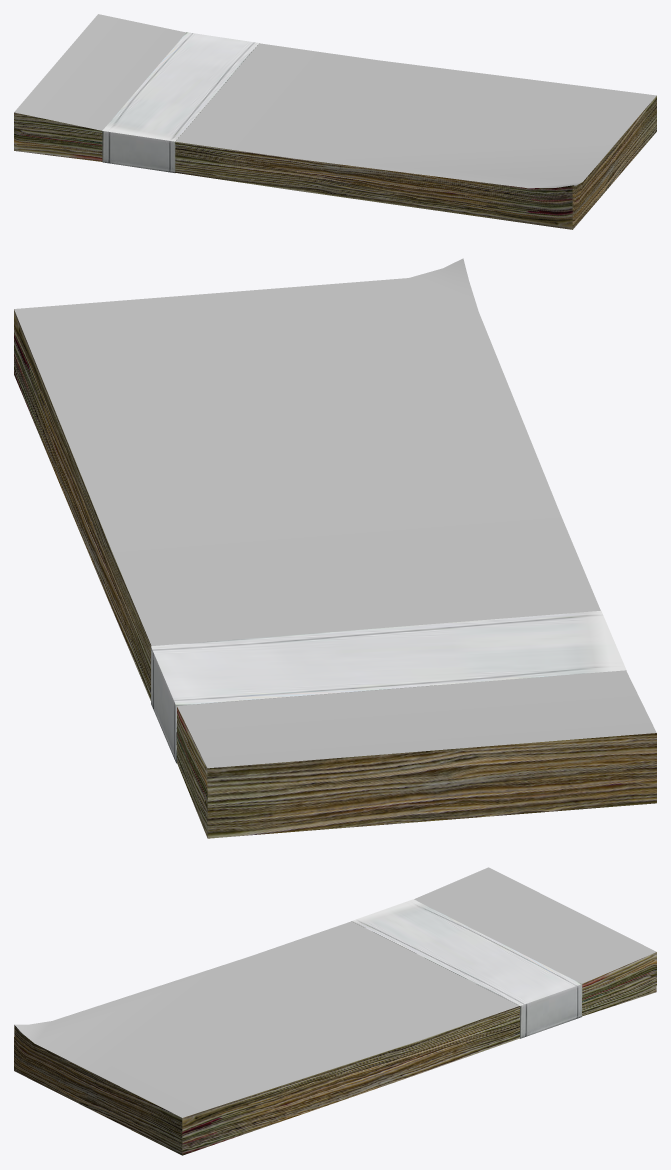
The model's file is money_small.fbx.
3 views of the same model, one above another, from view 1: azimuth 30°, elevation 25°; view 2: azimuth 150°, elevation 25°; view 3: azimuth 270°, elevation 25° (orthographic). The views are drawn at different scales.
Parts seen in each view (by area): view 1: Cube.004; view 2: Cube.004; view 3: Cube.004.
Part boxes in pixels (left/top/right/bottom): Cube.004: left=14, top=14, right=656, bottom=229; Cube.004: left=14, top=258, right=656, bottom=838; Cube.004: left=14, top=867, right=656, bottom=1155.
Size of the model in its own units: 330 by 32.3 by 354.
